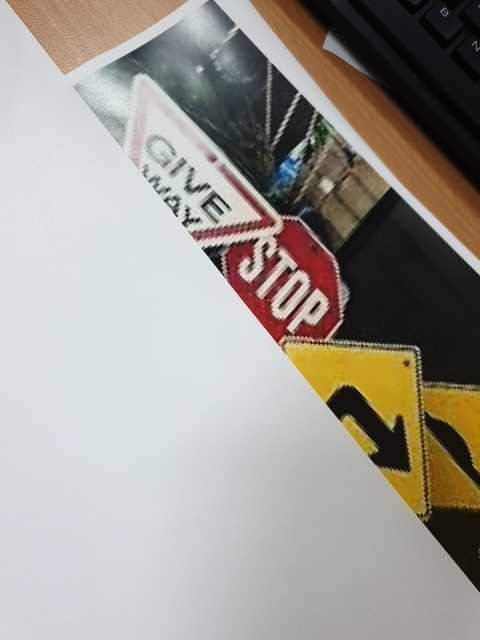giveway: (126, 75, 284, 259)
right: (282, 322, 432, 524)
stop: (233, 211, 354, 345)
